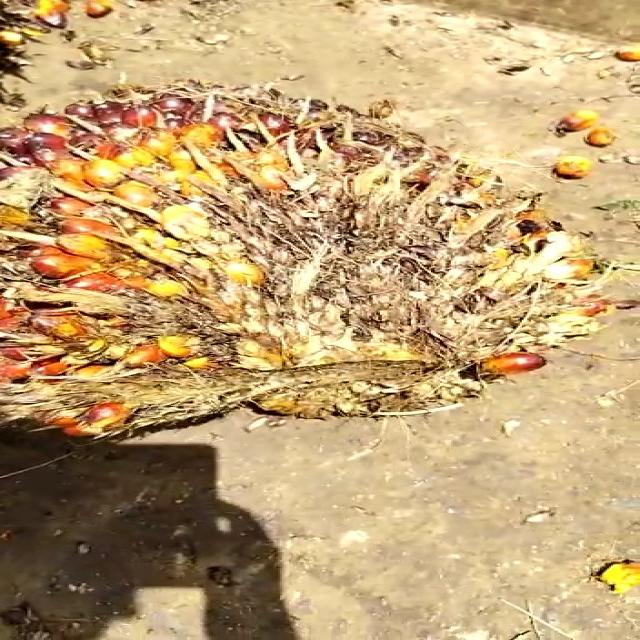palm oil: (0, 67, 609, 447)
